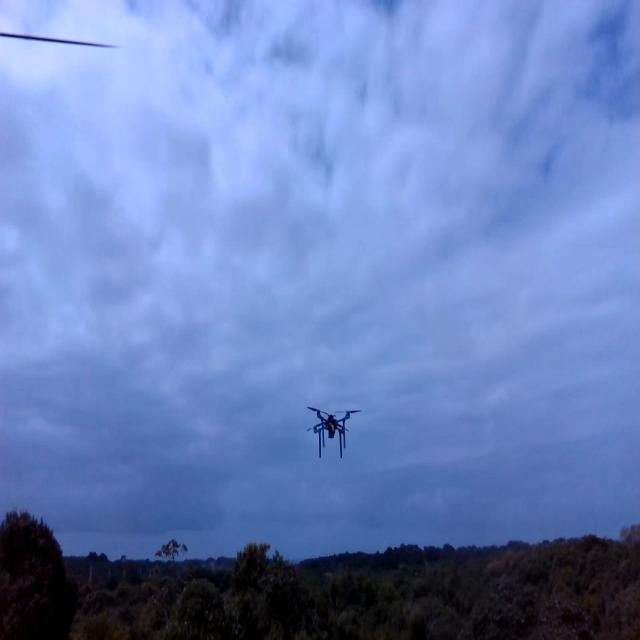-uav-: (304, 391, 364, 467)
